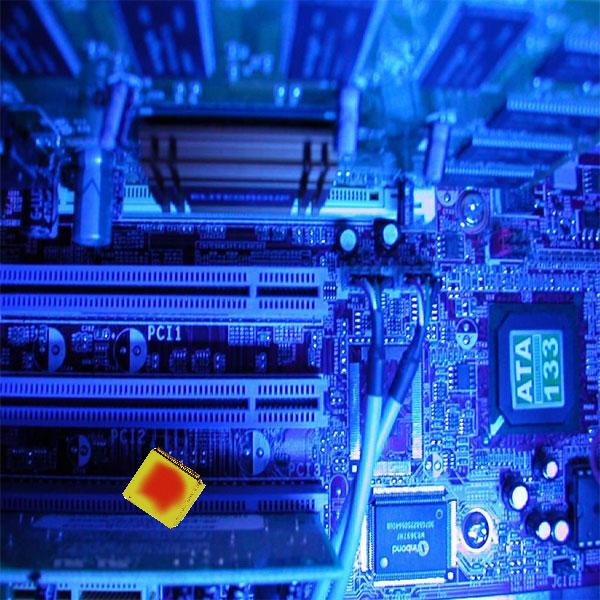componente_T: (121, 444, 208, 528)
